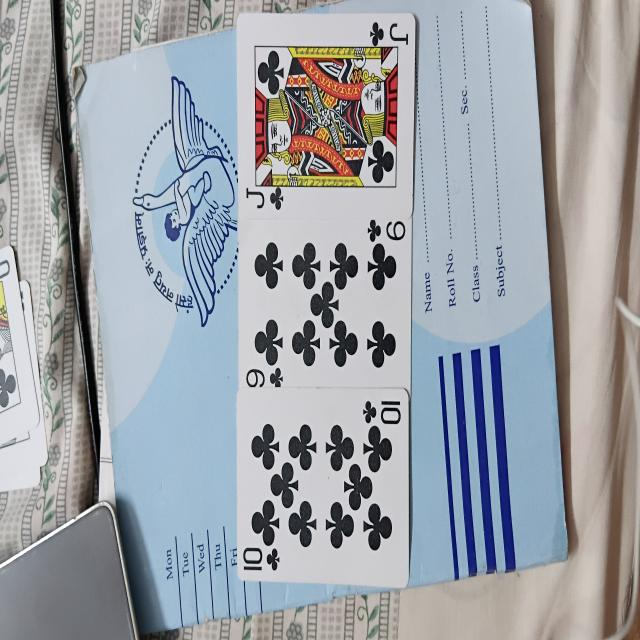10C: (236, 390, 411, 586)
9C: (238, 211, 414, 399)
JC: (238, 9, 420, 220)
